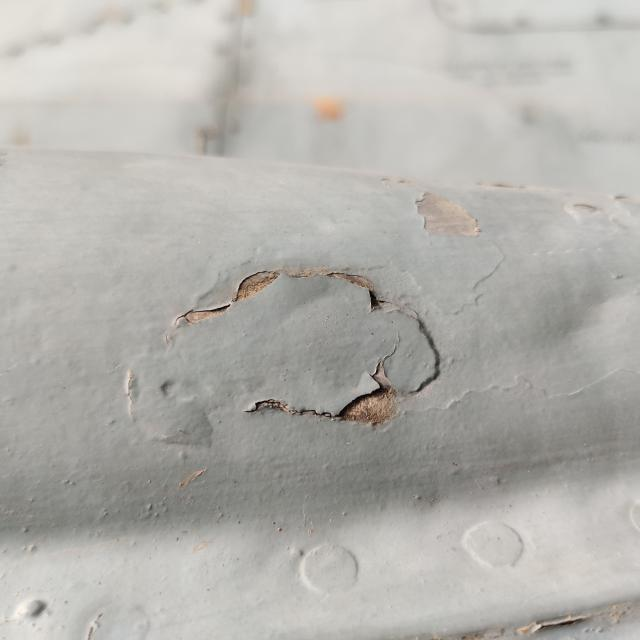paint-off: (167, 224, 460, 468)
